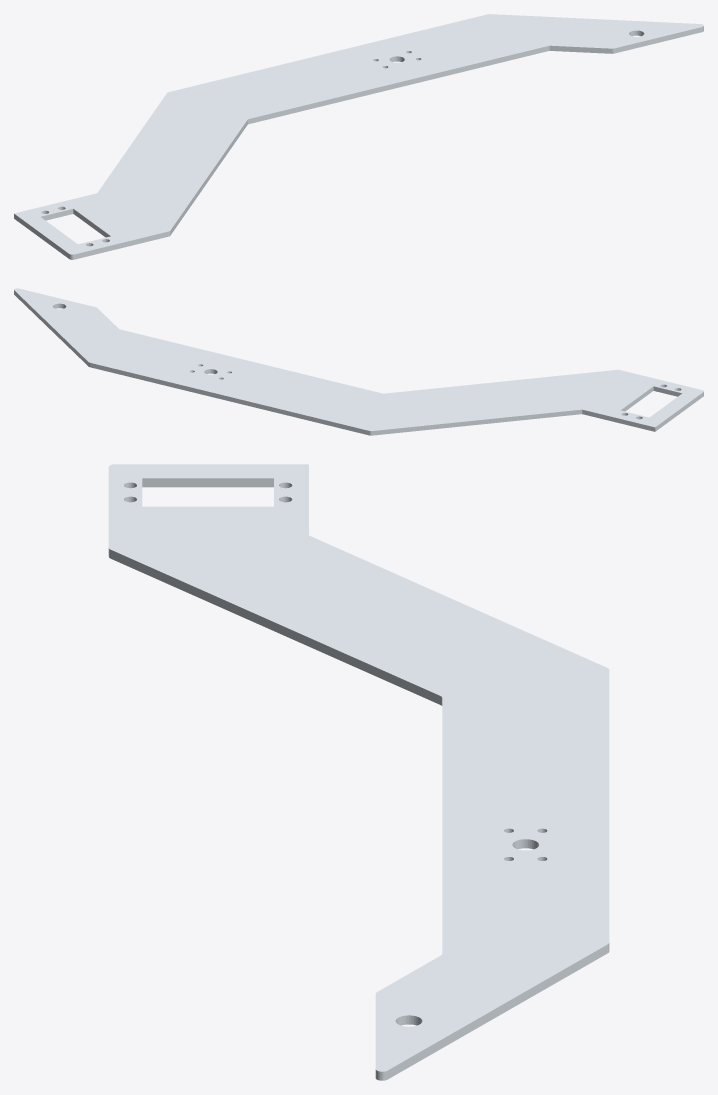
Rendered from left_rocker_link_plate.dae.
3 views of the same model, one above another, from view 1: azimuth 30°, elevation 25°; view 2: azimuth 150°, elevation 25°; view 3: azimuth 270°, elevation 25° (orthographic). The views are drawn at different scales.
Visible parts, largest first — view 1: l_rocker_link_-_rocker_plate-1; view 2: l_rocker_link_-_rocker_plate-1; view 3: l_rocker_link_-_rocker_plate-1.
Boxes of the visible parts, box(x1,y1,x2,y2) form: l_rocker_link_-_rocker_plate-1: box(14, 14, 703, 259); l_rocker_link_-_rocker_plate-1: box(14, 288, 703, 435); l_rocker_link_-_rocker_plate-1: box(108, 464, 609, 1080).
Size of the model in its own units: 0.4309 by 0.15 by 0.003.
1 material, 1 textured.
